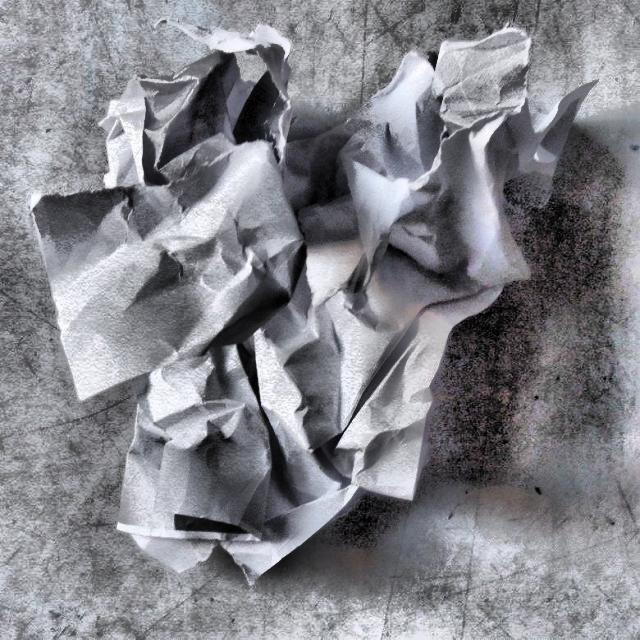Paper: (27, 0, 586, 575)
